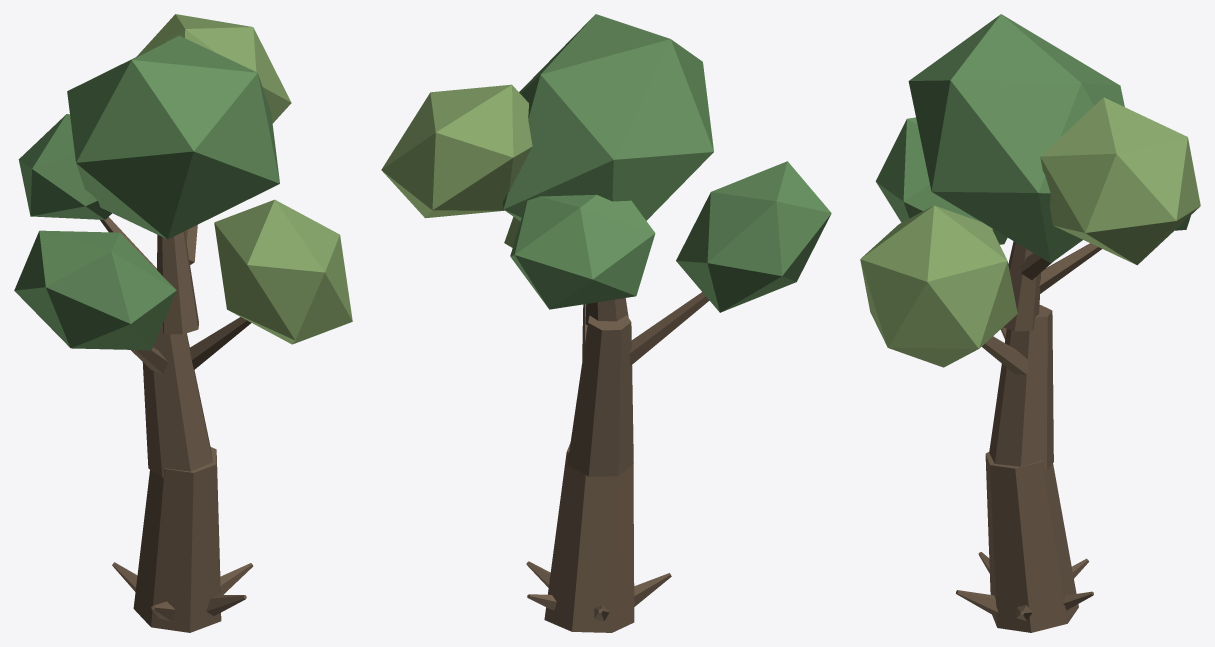
File: tree_old_a.glb
The picture shows the model from 3 angles, left to right: view 1: azimuth 30°, elevation 25°; view 2: azimuth 150°, elevation 25°; view 3: azimuth 270°, elevation 25°; orthographic projection. The views are drawn at different scales.
Visible parts, largest first — view 1: Leaf0_A, Leaf3_A, Leaf2_A, Trunk0_A, Trunk1_A, Leaf4_A, Leaf1_A, Trunk2_A, Branch2_A, Branch1_A, Root4_A; view 2: Leaf0_A, Leaf1_A, Leaf2_A, Leaf4_A, Trunk0_A, Trunk1_A, Branch1_A, Trunk2_A; view 3: Leaf0_A, Leaf3_A, Leaf1_A, Trunk0_A, Trunk1_A, Leaf2_A, Trunk2_A, Branch3_A, Branch2_A, Root4_A, Branch0_A.
Part boxes in pixels (left/top/right/bottom): Leaf0_A: left=67, top=35, right=279, bottom=239; Leaf3_A: left=214, top=199, right=352, bottom=344; Leaf2_A: left=14, top=230, right=176, bottom=350; Trunk0_A: left=133, top=447, right=221, bottom=632; Trunk1_A: left=142, top=325, right=212, bottom=477; Leaf4_A: left=18, top=114, right=112, bottom=219; Leaf1_A: left=136, top=14, right=291, bottom=123; Trunk2_A: left=157, top=231, right=198, bottom=334; Branch2_A: left=189, top=317, right=251, bottom=369; Branch1_A: left=131, top=347, right=168, bottom=374; Root4_A: left=206, top=595, right=246, bottom=615; Leaf0_A: left=502, top=14, right=713, bottom=221; Leaf1_A: left=381, top=84, right=532, bottom=218; Leaf2_A: left=676, top=161, right=831, bottom=312; Leaf4_A: left=510, top=194, right=655, bottom=309; Trunk0_A: left=544, top=442, right=634, bottom=632; Trunk1_A: left=567, top=315, right=633, bottom=476; Branch1_A: left=629, top=292, right=709, bottom=365; Trunk2_A: left=585, top=298, right=628, bottom=324; Leaf0_A: left=908, top=14, right=1124, bottom=263; Leaf3_A: left=860, top=205, right=1017, bottom=367; Leaf1_A: left=1040, top=97, right=1200, bottom=265; Trunk0_A: left=985, top=452, right=1078, bottom=632; Trunk1_A: left=989, top=305, right=1053, bottom=471; Leaf2_A: left=875, top=117, right=1007, bottom=244; Trunk2_A: left=1003, top=241, right=1040, bottom=331; Branch3_A: left=1039, top=243, right=1101, bottom=293; Branch2_A: left=981, top=336, right=1028, bottom=374; Root4_A: left=956, top=590, right=998, bottom=616; Branch0_A: left=1021, top=253, right=1052, bottom=280.
Size of the model in its own units: 5.06 by 8.76 by 4.66.
